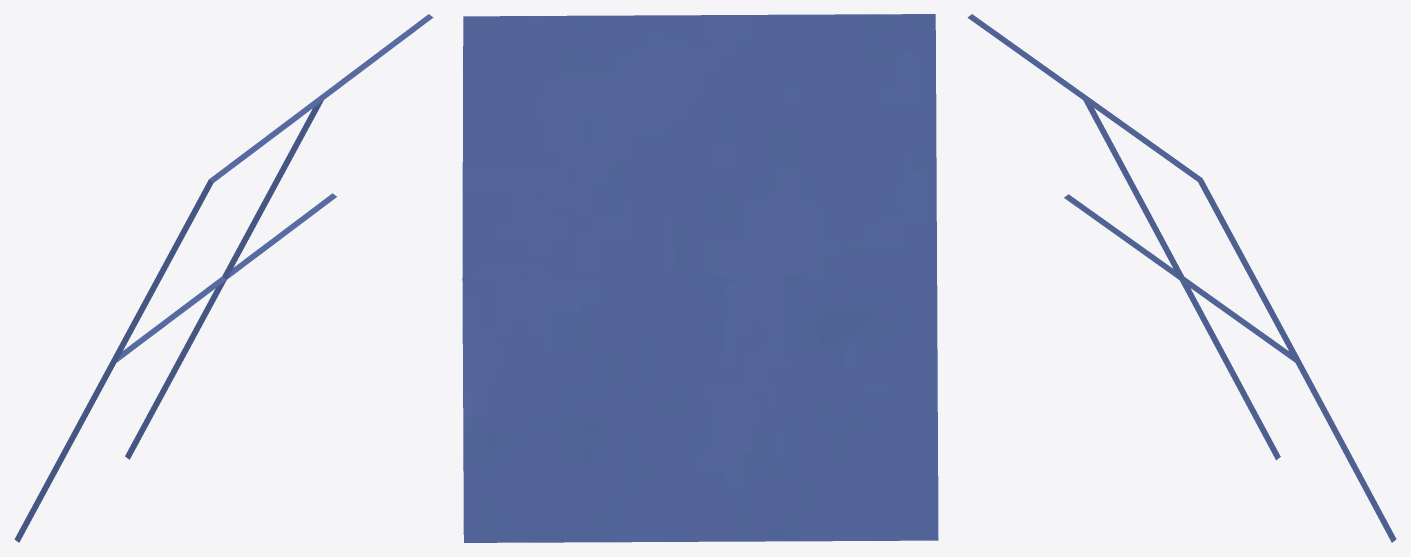
3 renders of one model, left to right at view 1: azimuth 30°, elevation 25°; view 2: azimuth 150°, elevation 25°; view 3: azimuth 270°, elevation 25°, orthographic. The views are drawn at different scales.
Size of the model in its own units: 19694 by 17661 by 16710.
Materials: 1 (1 with a texture image).
